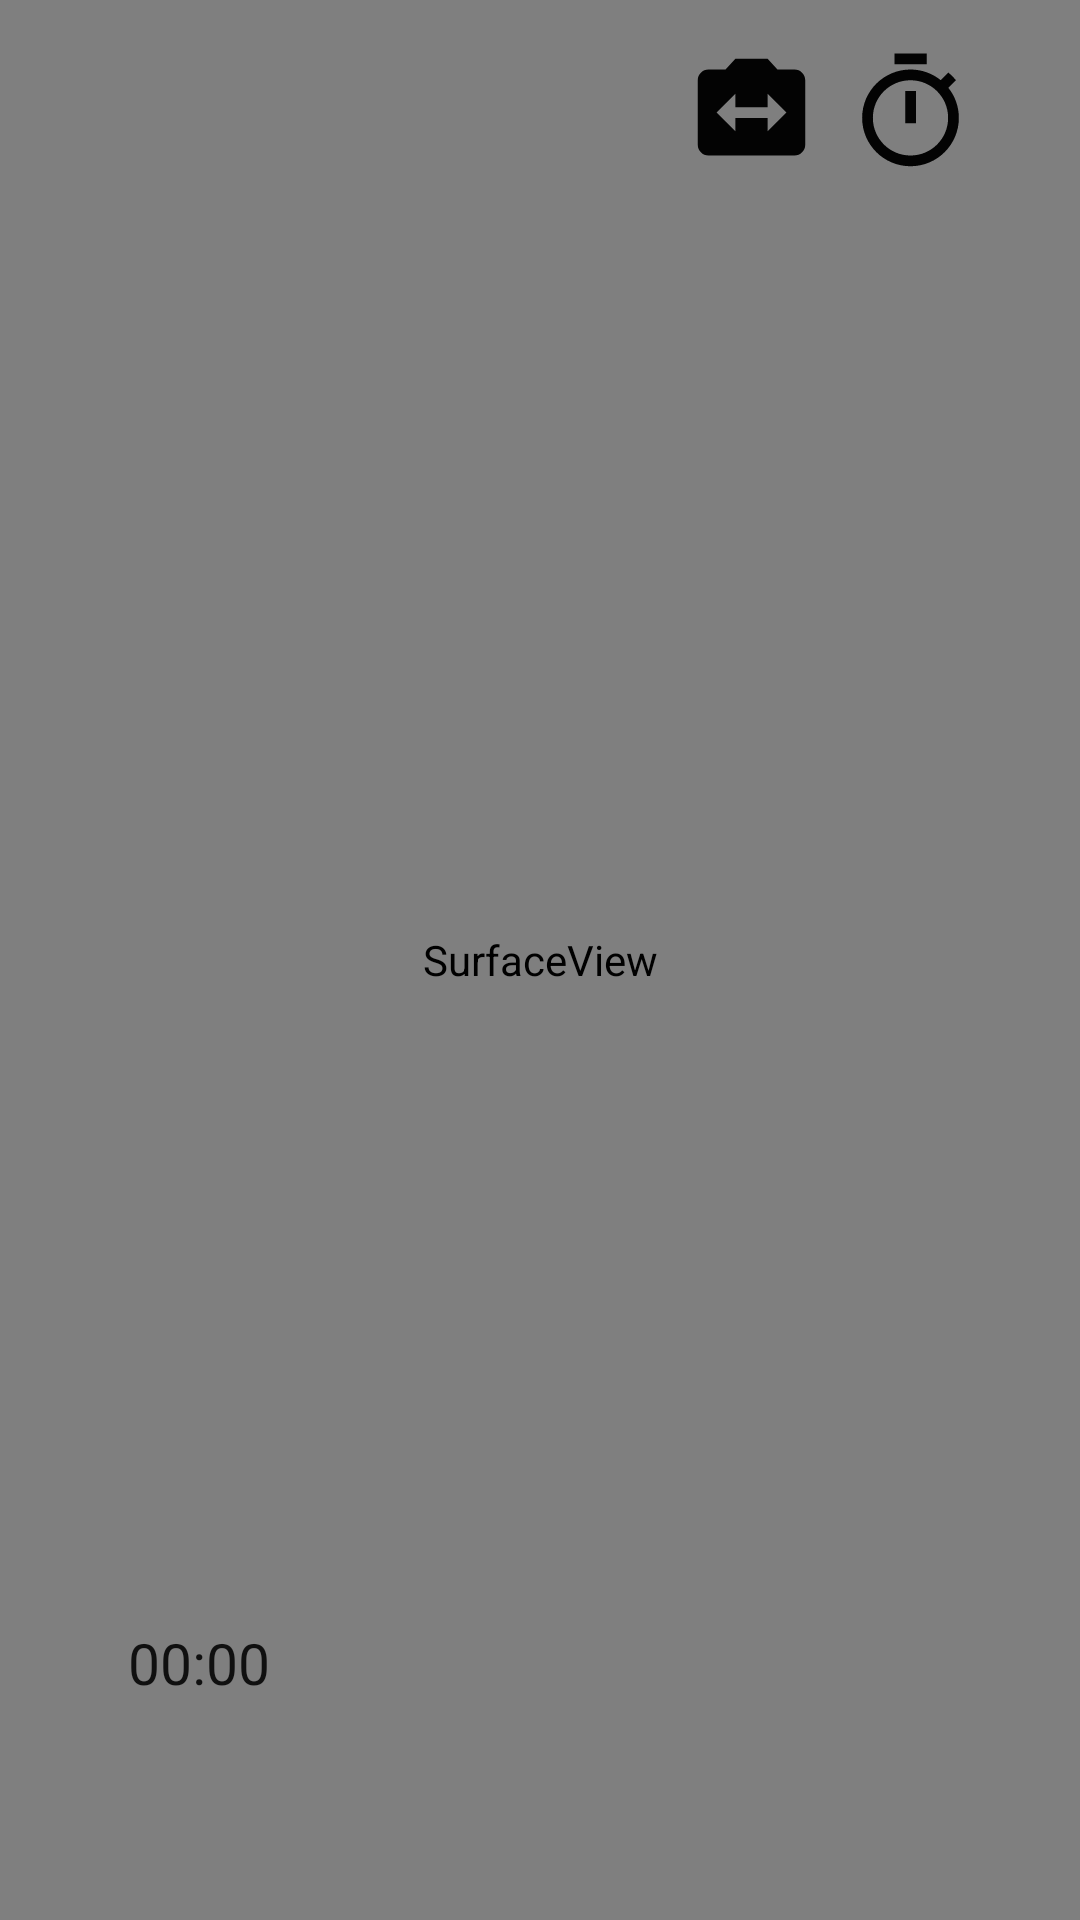

Icon click points for this 1080px x 1920px phone screenshot, format (x=x, y=y):
switch camera: (x=751, y=107)
timer: (x=910, y=110)
